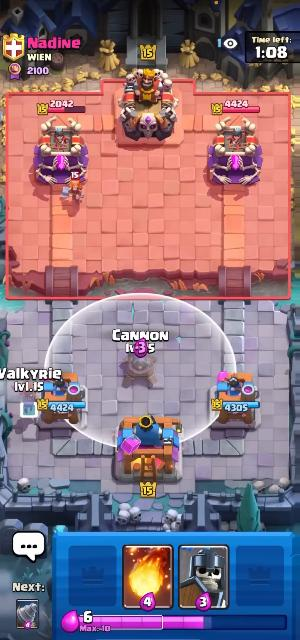enemy_melee: (61, 172, 85, 203)
